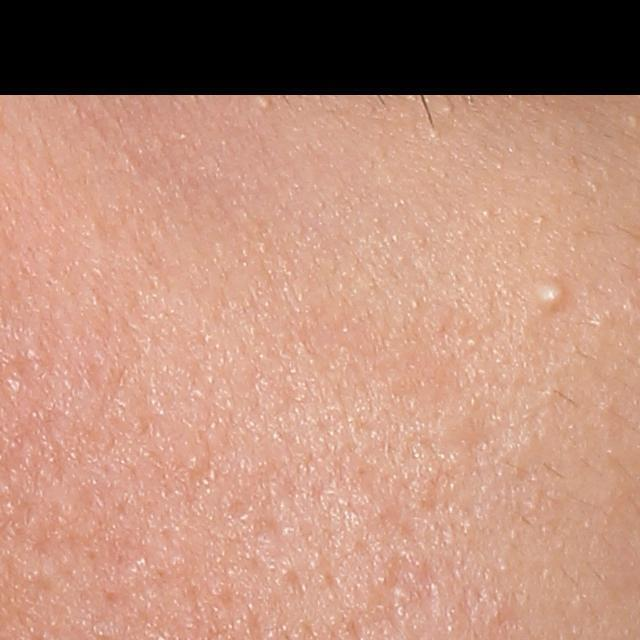other: (539, 280, 570, 313), (256, 93, 272, 113), (441, 101, 458, 113)
